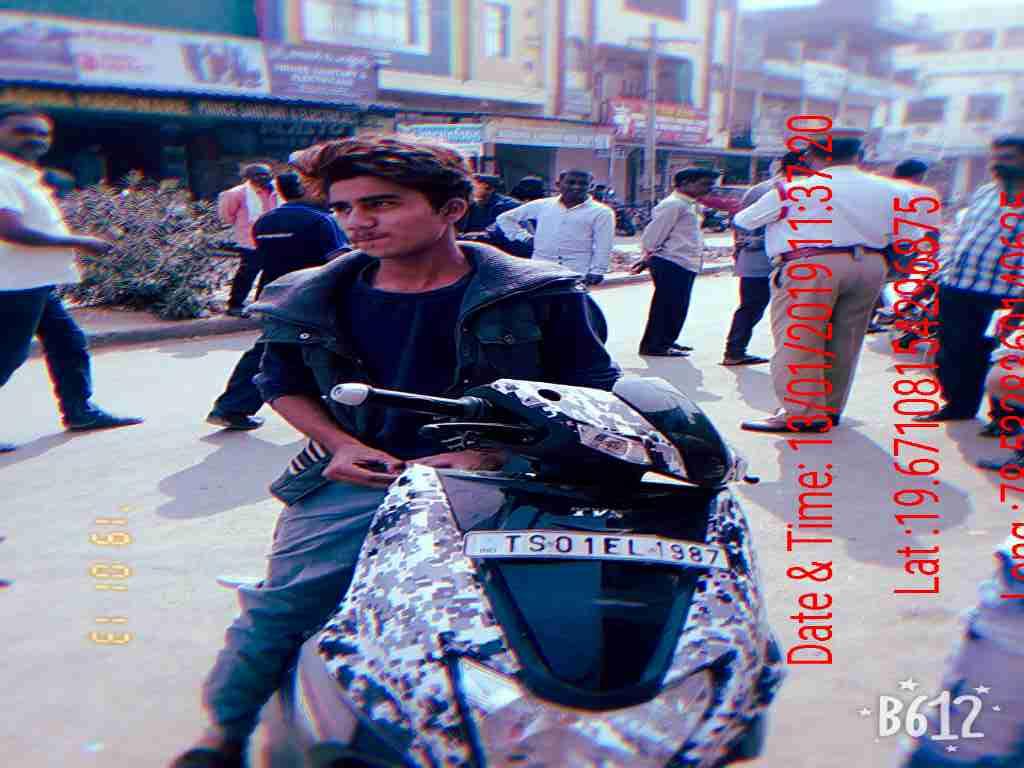plate: (467, 526, 740, 578)
